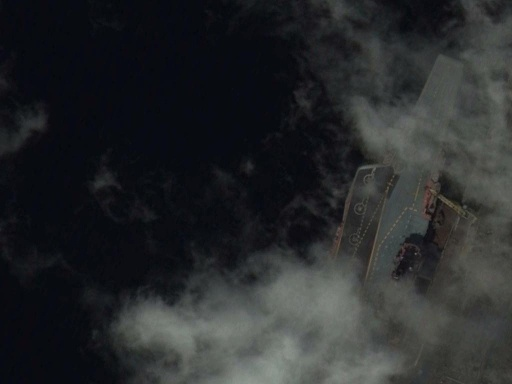ship: (282, 41, 512, 384)
